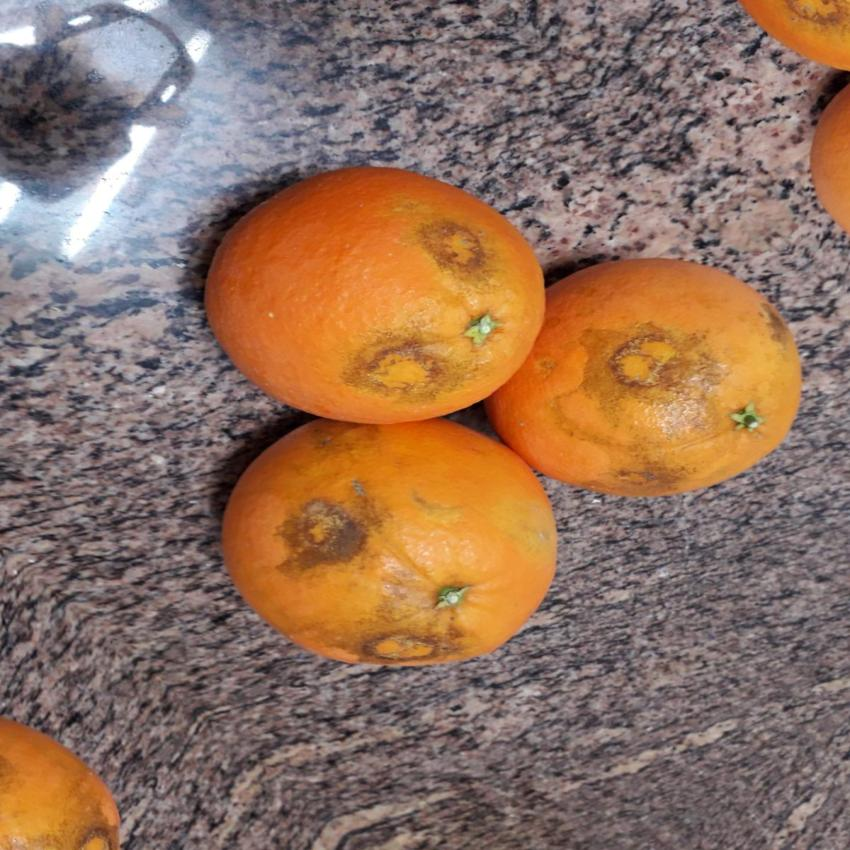Mal estado: (182, 155, 548, 435), (209, 413, 562, 693), (494, 250, 816, 514)
